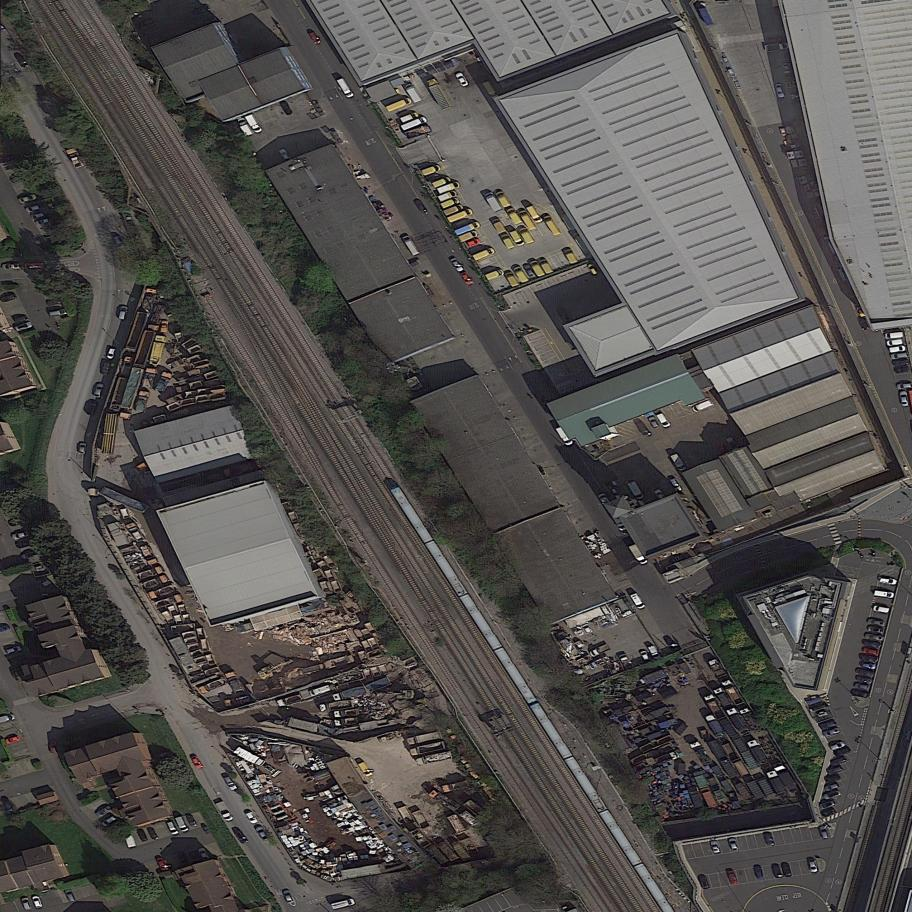large-vehicle: (86, 483, 150, 514), (131, 321, 161, 371), (119, 366, 145, 422), (426, 75, 454, 114), (428, 786, 462, 814), (232, 744, 267, 768), (720, 676, 746, 708), (702, 690, 728, 722), (739, 704, 764, 736), (689, 738, 714, 770), (774, 762, 799, 793), (726, 704, 750, 735), (408, 741, 448, 759), (747, 737, 770, 768), (197, 674, 229, 696), (765, 767, 788, 797), (516, 205, 539, 234), (406, 730, 443, 748), (333, 685, 368, 704), (415, 750, 454, 767), (705, 711, 727, 741), (651, 749, 682, 770), (224, 669, 246, 697), (147, 583, 179, 602), (713, 684, 735, 711), (628, 541, 650, 568), (138, 542, 160, 569), (153, 593, 185, 611), (125, 519, 147, 545), (401, 232, 422, 259), (453, 220, 482, 239), (446, 207, 475, 226), (139, 365, 158, 394), (483, 189, 504, 215), (323, 654, 355, 671), (385, 96, 415, 114), (140, 573, 170, 591), (707, 656, 728, 681), (571, 230, 592, 255), (153, 369, 173, 395), (139, 287, 158, 314), (296, 661, 326, 678), (320, 699, 356, 713), (400, 115, 428, 133), (215, 799, 235, 824), (244, 112, 264, 137), (543, 213, 563, 238), (441, 778, 472, 794), (559, 207, 578, 233), (136, 565, 165, 582), (404, 81, 424, 105), (525, 202, 545, 226), (222, 694, 253, 709), (236, 115, 255, 139), (337, 76, 356, 100), (471, 246, 497, 263), (150, 334, 167, 360), (512, 263, 531, 286), (134, 389, 151, 414), (276, 693, 304, 708), (617, 651, 636, 673), (494, 188, 513, 210), (505, 205, 524, 227), (490, 215, 509, 237), (436, 180, 462, 196), (629, 590, 647, 612), (503, 268, 521, 290), (518, 225, 536, 247), (562, 246, 580, 268), (588, 642, 611, 659), (357, 759, 375, 780), (308, 683, 333, 698), (431, 174, 453, 191), (509, 228, 526, 250), (538, 255, 555, 277), (118, 355, 134, 378), (691, 399, 715, 414), (530, 258, 547, 279), (442, 203, 464, 219), (500, 231, 516, 253), (330, 897, 357, 910), (436, 189, 459, 204), (420, 163, 443, 178), (174, 814, 190, 835), (588, 656, 609, 672), (458, 229, 480, 244), (398, 110, 420, 125), (439, 197, 461, 211), (484, 268, 506, 282), (647, 643, 663, 662), (655, 411, 671, 430), (123, 830, 138, 850), (764, 41, 789, 53), (658, 716, 679, 730), (334, 708, 360, 719), (334, 717, 361, 727), (166, 819, 180, 837), (873, 589, 895, 600), (884, 331, 904, 340), (889, 345, 906, 354), (890, 352, 909, 360), (886, 339, 904, 346)
small-vehicle: (555, 424, 575, 449), (670, 451, 689, 474), (634, 419, 653, 440), (627, 479, 645, 501), (231, 825, 249, 846), (611, 513, 628, 533), (14, 51, 30, 71), (669, 551, 691, 565), (95, 803, 113, 820), (413, 197, 429, 216), (254, 824, 270, 843), (8, 75, 24, 94), (692, 542, 713, 556), (449, 256, 465, 274), (223, 774, 239, 792), (697, 872, 711, 892), (454, 70, 469, 88), (459, 270, 474, 288), (668, 476, 683, 494), (279, 100, 294, 117), (308, 30, 323, 47), (63, 887, 77, 905), (18, 193, 38, 205), (245, 809, 259, 826), (726, 435, 740, 452), (155, 856, 169, 873), (859, 653, 880, 664), (833, 746, 852, 758), (823, 790, 842, 802), (826, 765, 845, 777), (830, 756, 849, 768), (818, 719, 837, 731), (14, 321, 33, 333), (190, 754, 204, 770), (597, 492, 611, 508), (751, 864, 765, 880), (277, 147, 291, 163), (101, 814, 117, 828), (726, 869, 739, 886), (147, 826, 160, 843), (92, 382, 105, 399), (86, 400, 99, 417), (775, 82, 787, 100), (771, 862, 783, 880), (819, 807, 837, 819), (819, 800, 837, 812), (824, 773, 842, 785), (857, 316, 870, 332), (654, 488, 667, 504), (136, 828, 149, 844), (898, 390, 910, 407), (851, 689, 871, 699), (863, 639, 883, 649), (48, 308, 68, 318), (822, 727, 840, 738), (11, 530, 29, 541), (5, 644, 23, 655), (639, 649, 652, 664), (197, 847, 210, 862), (780, 862, 793, 877), (31, 894, 43, 910), (807, 858, 819, 874), (282, 888, 294, 904), (2, 798, 14, 814), (824, 781, 840, 793), (648, 415, 660, 431), (855, 675, 874, 685), (856, 668, 875, 678), (864, 633, 885, 642), (763, 830, 774, 847), (0, 293, 17, 304), (587, 262, 599, 277), (186, 814, 198, 829), (710, 839, 721, 855), (728, 837, 739, 853), (830, 740, 846, 751), (118, 305, 129, 321), (21, 551, 40, 560), (465, 238, 482, 248), (15, 540, 32, 550), (5, 735, 20, 746), (100, 361, 111, 376), (853, 682, 871, 691), (861, 647, 879, 656), (867, 625, 885, 634), (34, 217, 50, 227), (581, 622, 593, 635), (177, 851, 188, 865), (113, 235, 124, 249), (868, 618, 885, 627), (891, 359, 910, 367), (25, 204, 40, 214), (30, 211, 45, 221), (873, 605, 889, 614), (2, 263, 20, 271), (46, 298, 62, 307), (819, 825, 829, 839), (894, 366, 911, 374), (880, 577, 897, 585), (14, 315, 29, 324), (106, 347, 116, 360), (160, 320, 169, 334), (862, 662, 877, 670), (78, 442, 87, 454)
